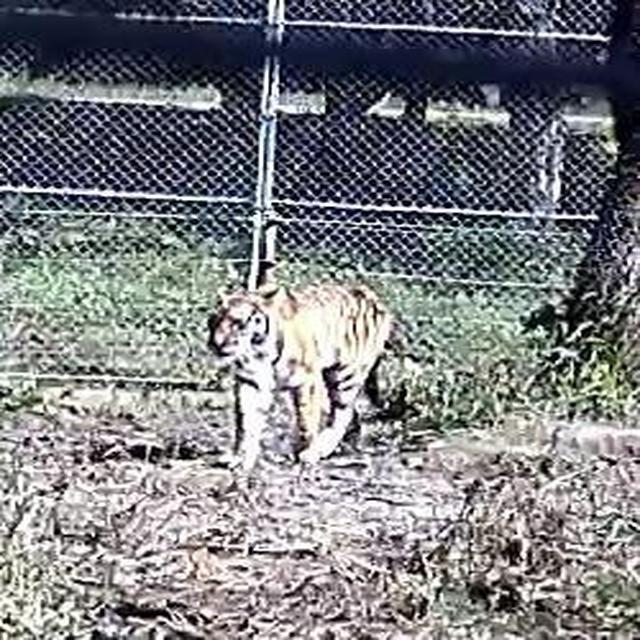tiger: (204, 276, 398, 479)
